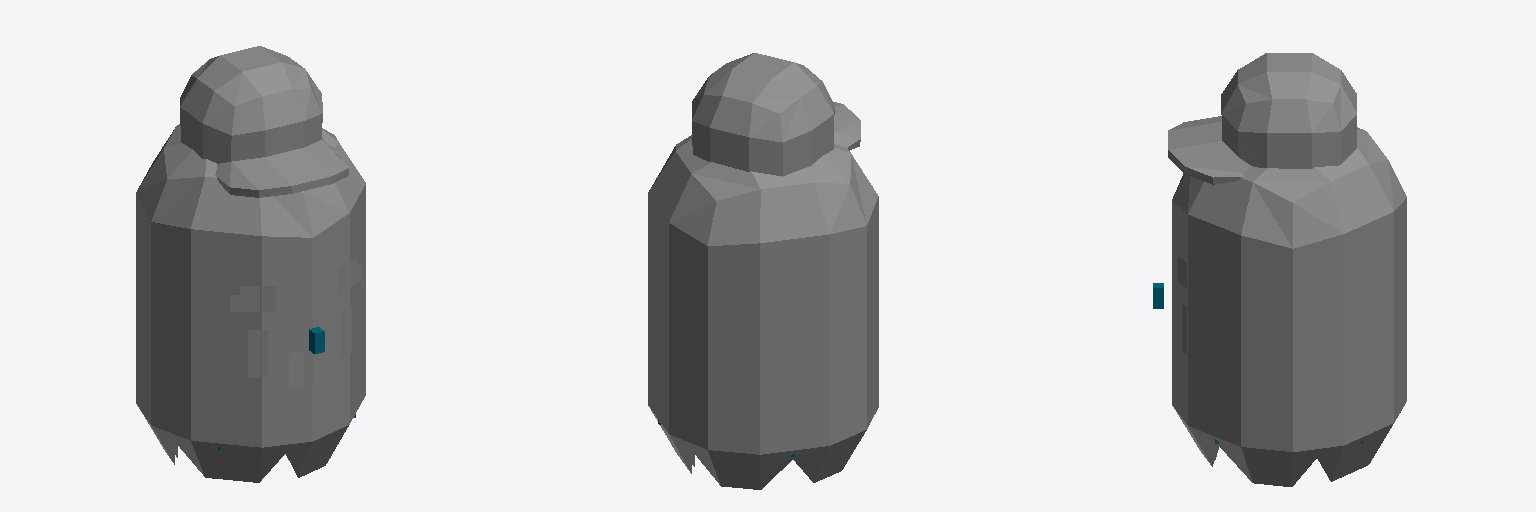
Rendered from Player_Ghost.obj.
3 renders of one model, left to right at view 1: azimuth 30°, elevation 25°; view 2: azimuth 150°, elevation 25°; view 3: azimuth 270°, elevation 25°, orthographic.
Visible parts, largest first — view 1: Player_Ghost; view 2: Player_Ghost; view 3: Player_Ghost.
Part boxes in pixels (left/top/right/bottom): Player_Ghost: left=136, top=46, right=365, bottom=482; Player_Ghost: left=648, top=53, right=878, bottom=489; Player_Ghost: left=1168, top=53, right=1406, bottom=486.
Bounding box in the file's own units: 43.16 × 78.35 × 46.62.